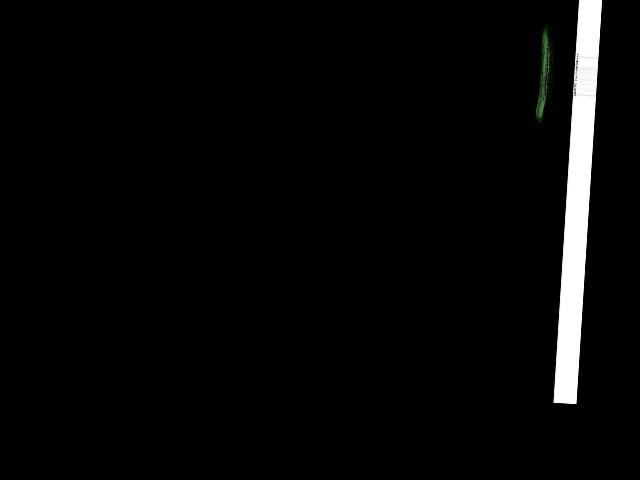cucumber: (535, 21, 557, 125)
